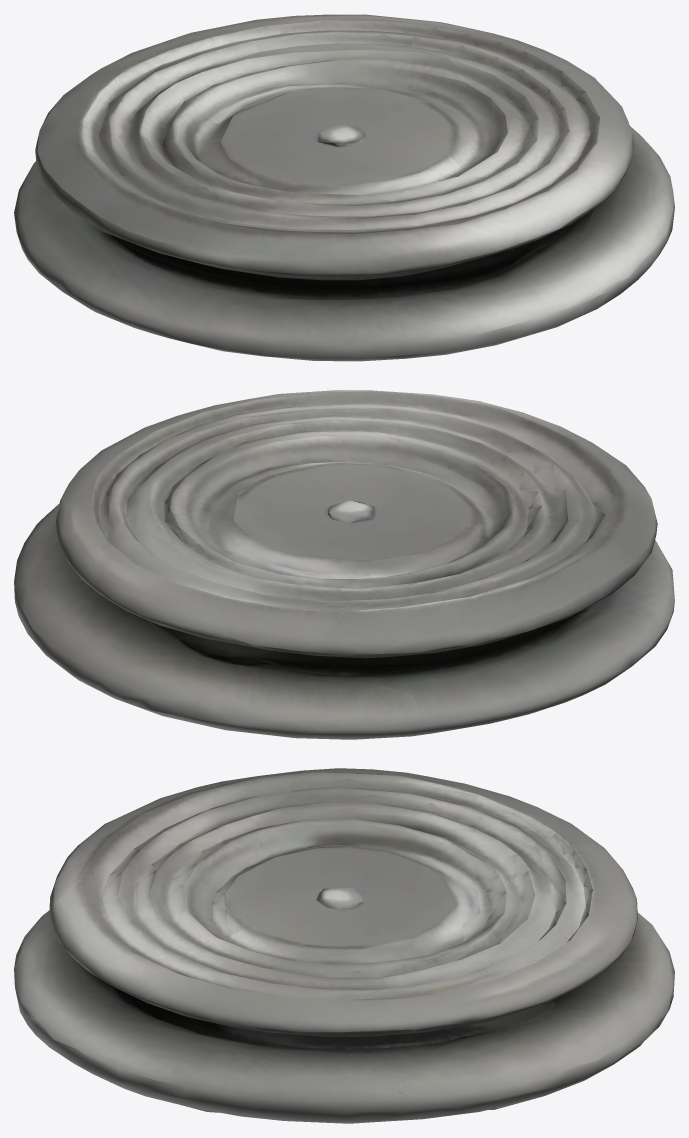
The model's file is m2SpringPad.glb.
The picture shows the model from 3 angles, top to bottom: view 1: azimuth 30°, elevation 25°; view 2: azimuth 150°, elevation 25°; view 3: azimuth 270°, elevation 25°; orthographic projection.
Parts seen in each view (by area): view 1: model; view 2: model; view 3: model.
Part boxes in pixels (bbox=[...]): model: bbox=[14, 14, 674, 361]; model: bbox=[14, 390, 674, 739]; model: bbox=[14, 768, 674, 1123].
Size of the model in its own units: 1.89 by 0.3661 by 1.89.
1 material, 1 textured.
